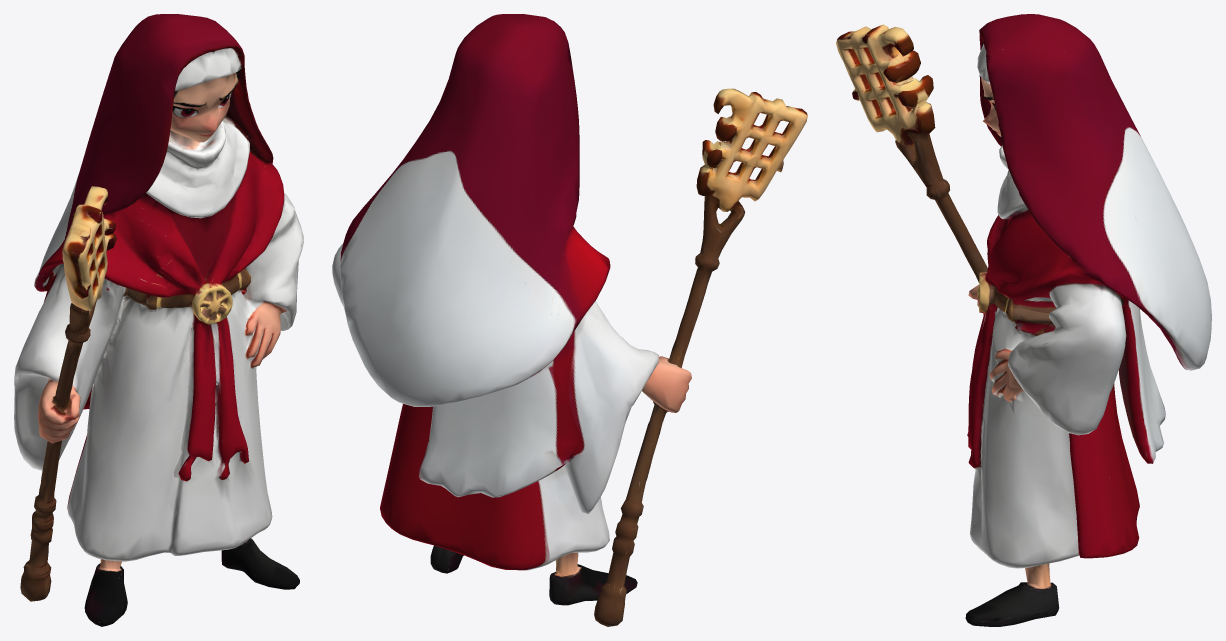
File: support.glb
The picture shows the model from 3 angles, left to right: view 1: azimuth 30°, elevation 25°; view 2: azimuth 150°, elevation 25°; view 3: azimuth 270°, elevation 25°; orthographic projection.
Parts seen in each view (by area): view 1: Mesh_0; view 2: Mesh_0; view 3: Mesh_0.
Part boxes in pixels (bbox=[...]): Mesh_0: bbox=[14, 14, 303, 626]; Mesh_0: bbox=[332, 14, 807, 626]; Mesh_0: bbox=[836, 14, 1211, 626].
Size of the model in its own units: 1.24 by 1.91 by 1.15.
1 material, 1 textured.
